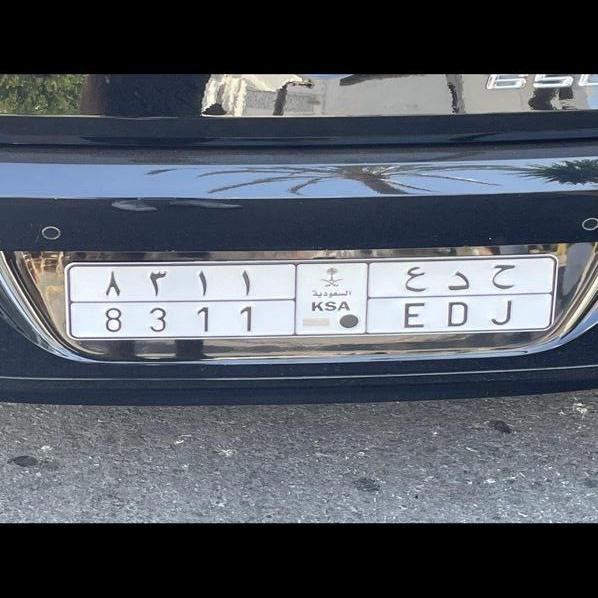numberplate: (80, 263, 525, 336)
